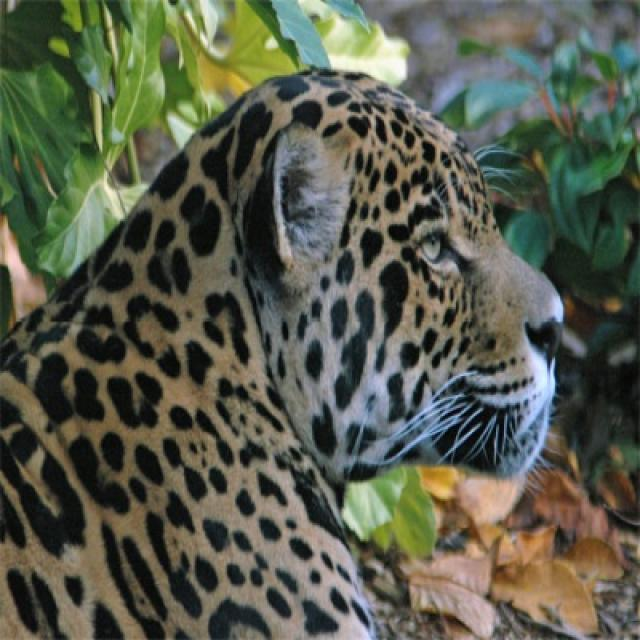Jaguar: (0, 69, 566, 638)
